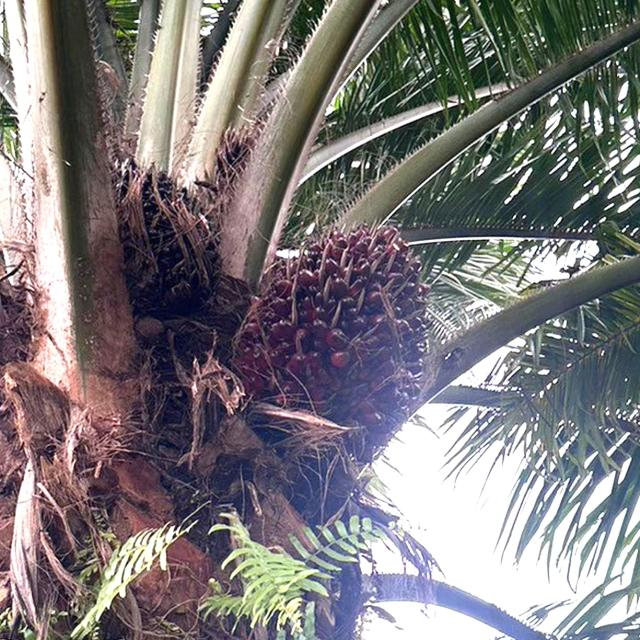ripe: (235, 217, 445, 451), (104, 146, 226, 324)
